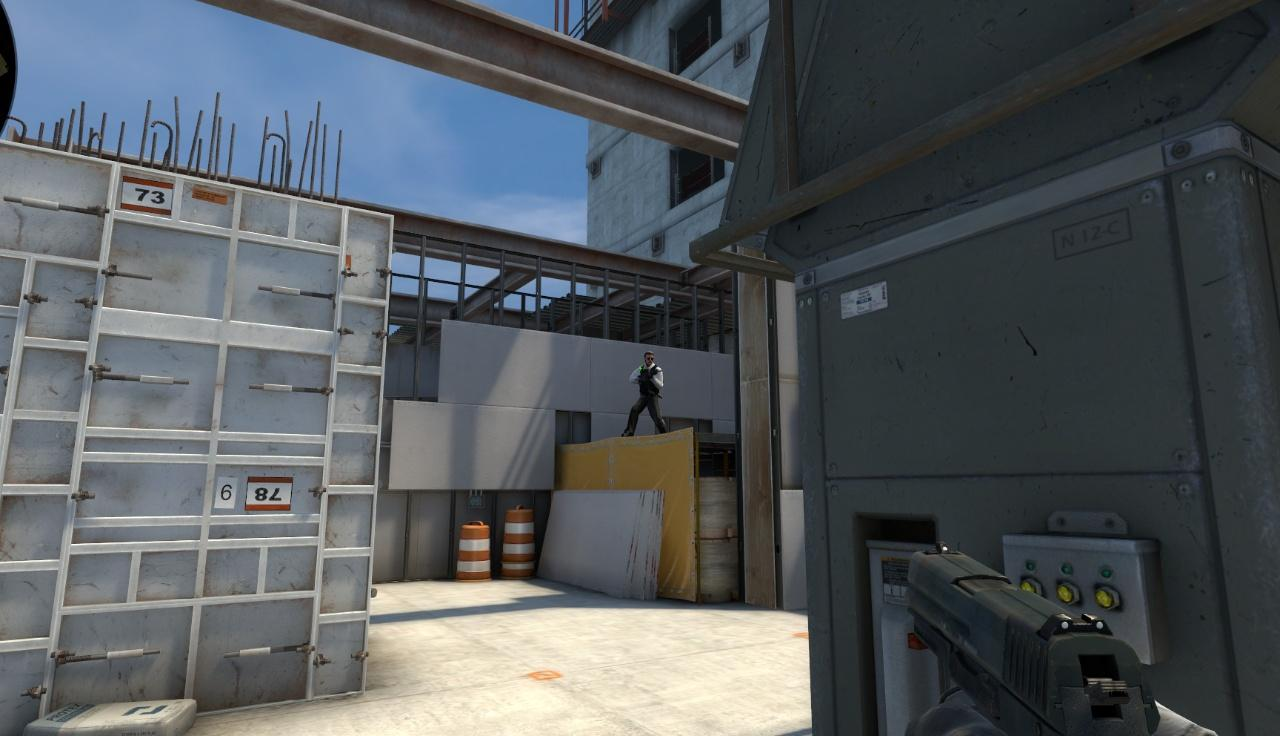pistol: (903, 545, 1164, 735)
tt: (630, 351, 666, 434)
tthead: (644, 352, 653, 365)
